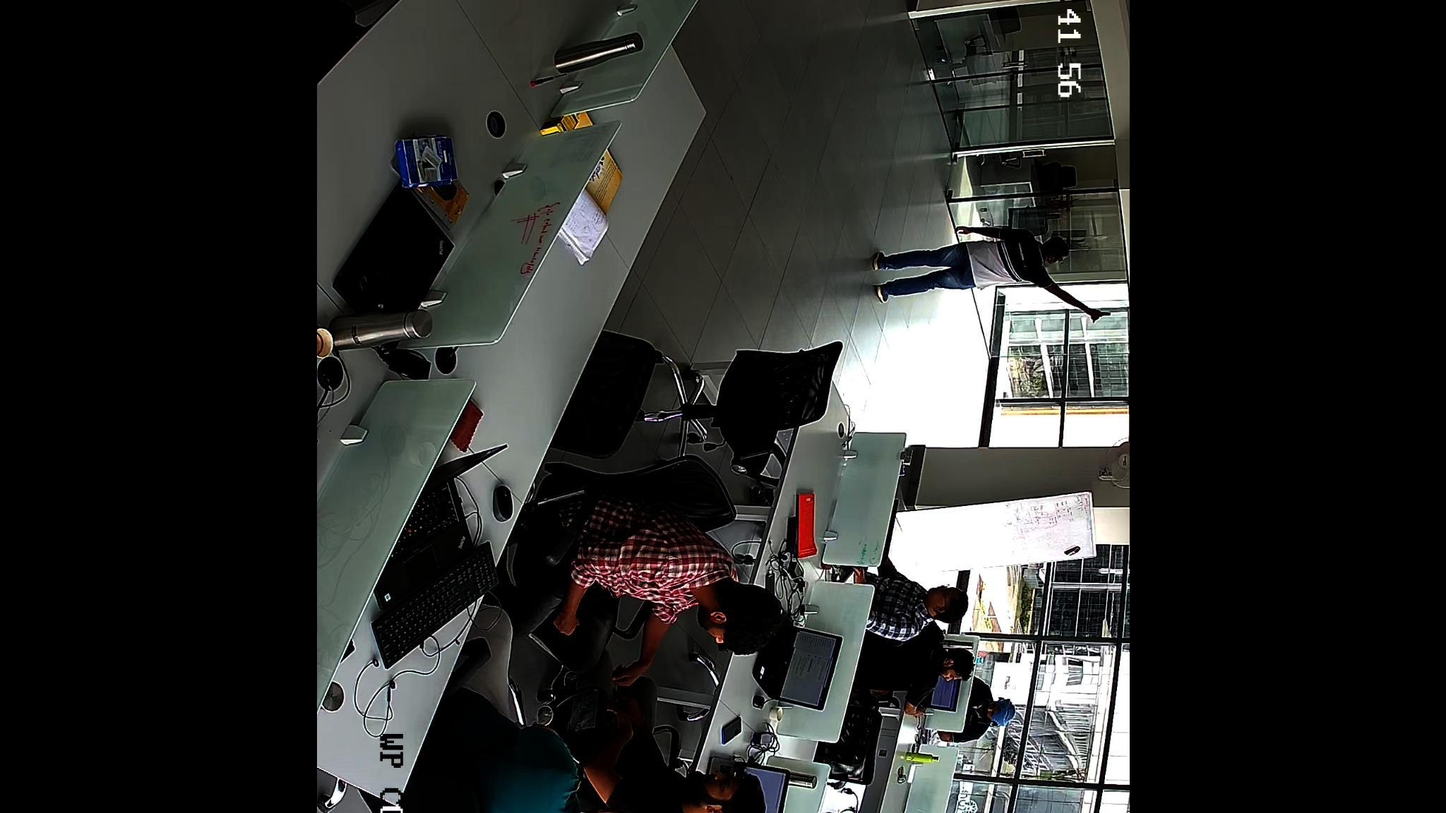gun: (1092, 311, 1110, 323)
